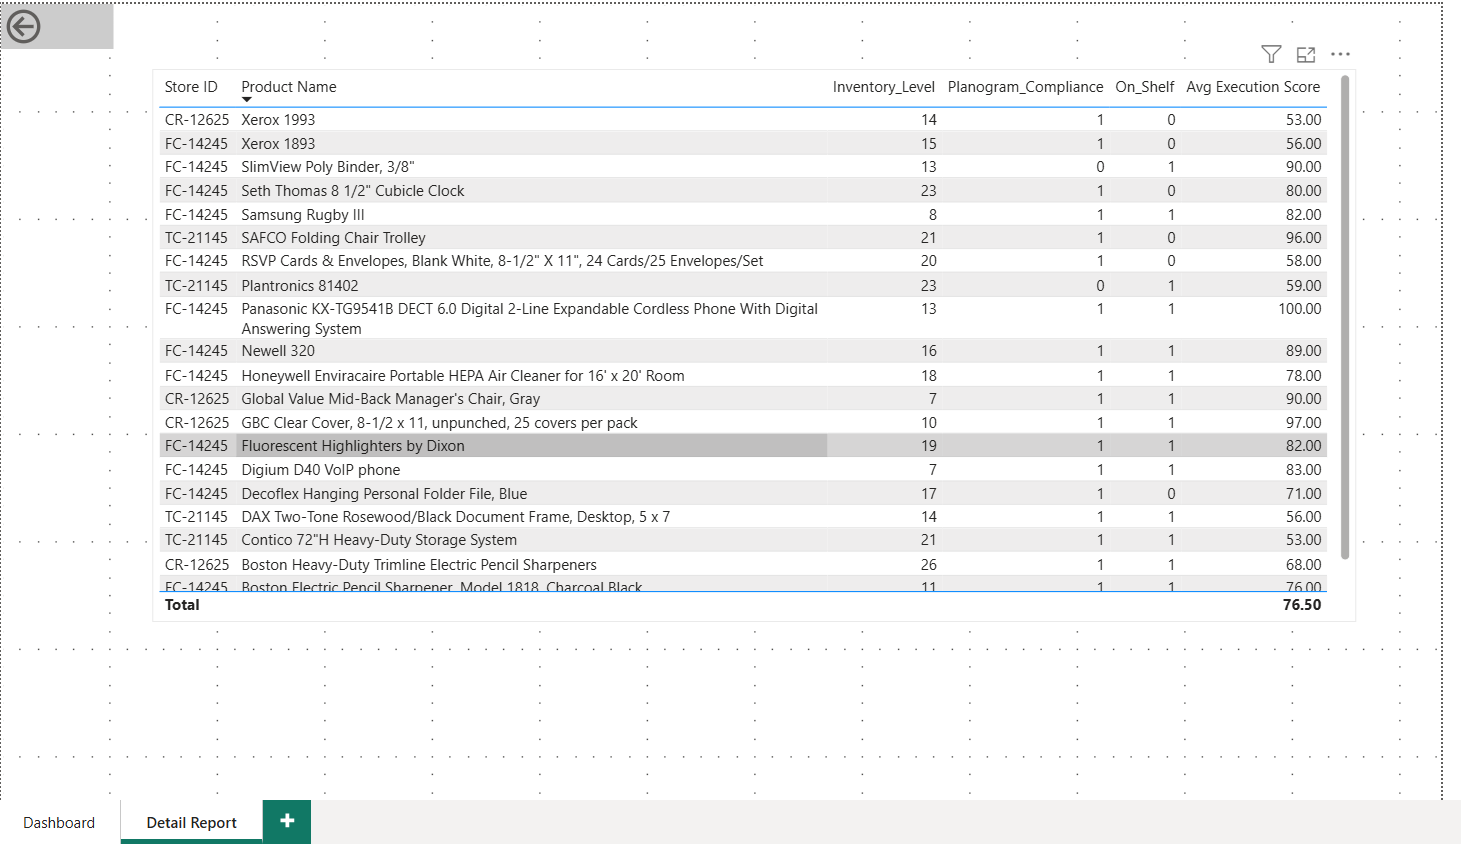

Layout of this report page (visuals, bound fields, positions):
{"tool":"powerbi","page":{"name":"Detail Report","canvas":[1280,720],"ordinal":1},"visuals":[{"type":"actionButton","title":"Back","box":[0,0,100,40],"z":0},{"type":"tableEx","fields":{"Values":["Dim_Store.Store ID","Dim_Product.Product Name","Fact_Store_Visit.Inventory_Level","Fact_Store_Visit.Planogram_Compliance","Fact_Store_Visit.On_Shelf","Measurestable.Avg Execution Score"]},"box":[134.9,58.3,1069.7,490.3],"z":1000}]}

Visuals, with their boxes on the page's 1280x720 design canvas (x1, y1, x2, y2). These are canvas units, not pixel positions in the 1461x844 screenshot, which may show the page scaled, cropped or inside an application window:
"Back" actionButton: detection(0, 0, 100, 40)
tableEx - Dim_Store.Store ID x Dim_Product.Product Name: detection(135, 58, 1205, 549)
